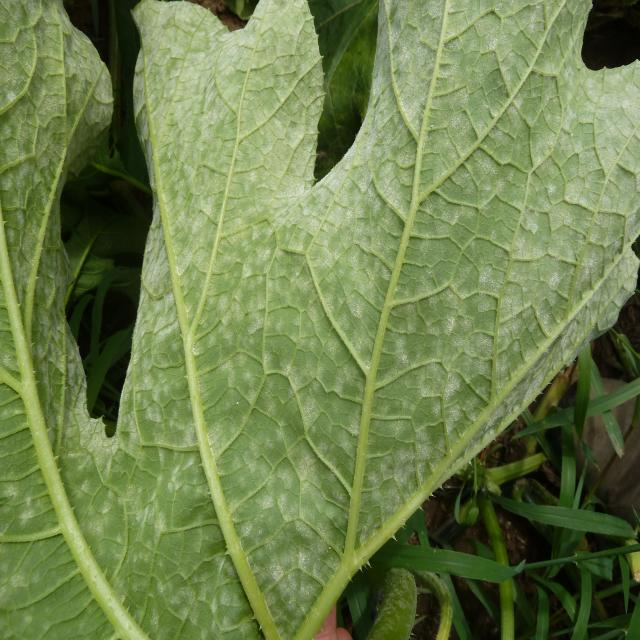Powdery Mildew: (2, 1, 638, 638)
